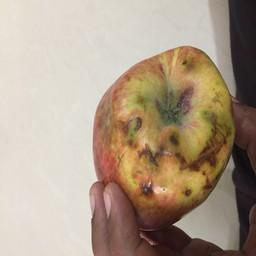Bad_apple: (91, 42, 238, 229)
